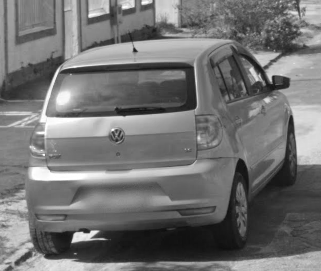car: (27, 38, 299, 254)
